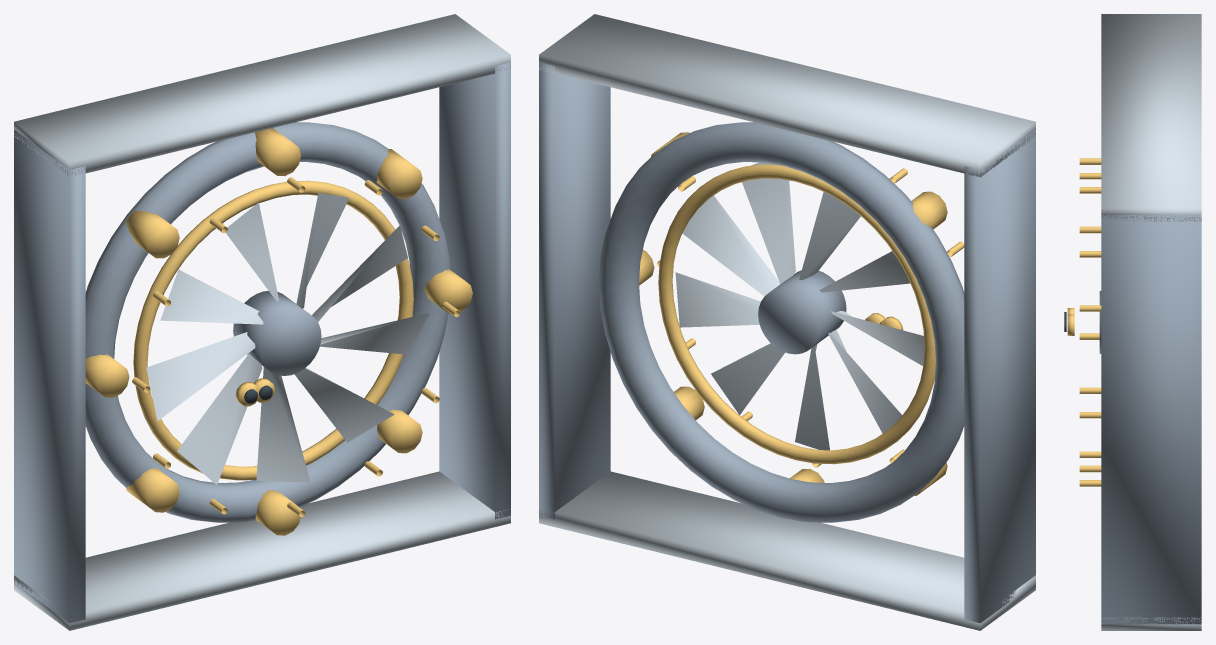
The model's file is 57_L88_VentilationSecondaryCirculationBlower.fbx.
3 renders of one model, left to right at view 1: azimuth 30°, elevation 25°; view 2: azimuth 150°, elevation 25°; view 3: azimuth 270°, elevation 25°, orthographic. The views are drawn at different scales.
Parts seen in each view (by area): view 1: L87_VentilationSecondaryCircu_Part_0000, L87_VentilationSecondaryCircu_Part_0005, L87_VentilationSecondaryCircu_Part_0004, L87_VentilationSecondaryCircu_Part_0001, L87_VentilationSecondaryCircu_Part_0003, L87_VentilationSecondaryCircu_Part_0002; view 2: L87_VentilationSecondaryCircu_Part_0000, L87_VentilationSecondaryCircu_Part_0005, L87_VentilationSecondaryCircu_Part_0004, L87_VentilationSecondaryCircu_Part_0001, L87_VentilationSecondaryCircu_Part_0003; view 3: L87_VentilationSecondaryCircu_Part_0000, L87_VentilationSecondaryCircu_Part_0005, L87_VentilationSecondaryCircu_Part_0001.
Boxes of the visible parts, x1,y1,x2,y2 form: L87_VentilationSecondaryCircu_Part_0000: [14, 62, 510, 623]; L87_VentilationSecondaryCircu_Part_0005: [14, 14, 510, 630]; L87_VentilationSecondaryCircu_Part_0004: [146, 192, 429, 484]; L87_VentilationSecondaryCircu_Part_0001: [85, 128, 472, 535]; L87_VentilationSecondaryCircu_Part_0003: [233, 291, 321, 375]; L87_VentilationSecondaryCircu_Part_0002: [377, 409, 422, 453]; L87_VentilationSecondaryCircu_Part_0000: [539, 62, 1035, 623]; L87_VentilationSecondaryCircu_Part_0005: [539, 14, 1035, 630]; L87_VentilationSecondaryCircu_Part_0004: [675, 162, 924, 450]; L87_VentilationSecondaryCircu_Part_0001: [639, 132, 964, 519]; L87_VentilationSecondaryCircu_Part_0003: [758, 270, 846, 354]; L87_VentilationSecondaryCircu_Part_0000: [1101, 215, 1201, 624]; L87_VentilationSecondaryCircu_Part_0005: [1101, 14, 1201, 630]; L87_VentilationSecondaryCircu_Part_0001: [1079, 158, 1101, 486].
Bounding box in the file's own units: 2.75 × 2.79 × 0.822.
